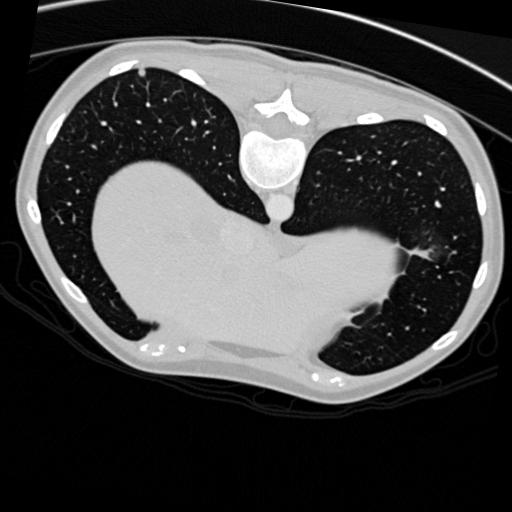nodule: (134, 66, 148, 80)
